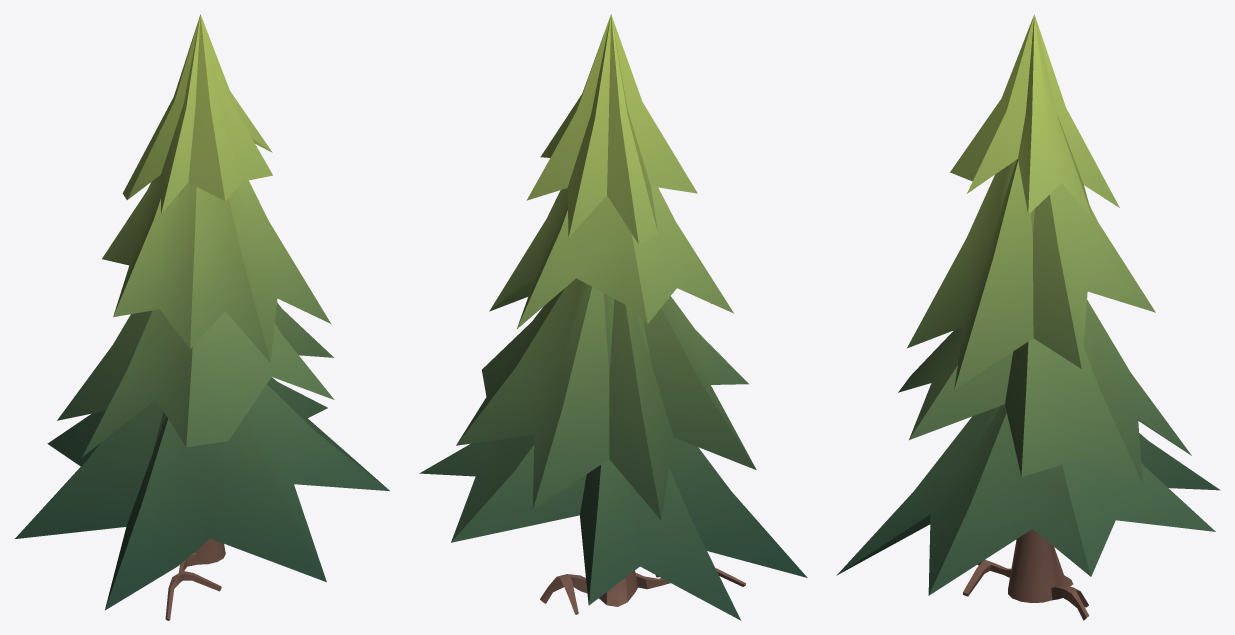
Rendered from Baum.fbx.
The picture shows the model from 3 angles, left to right: view 1: azimuth 30°, elevation 25°; view 2: azimuth 150°, elevation 25°; view 3: azimuth 270°, elevation 25°; orthographic projection. The views are drawn at different scales.
Parts seen in each view (by area): view 1: tree; view 2: tree; view 3: tree.
Part boxes in pixels (x1,y1,x2,y2): tree: [15, 14, 389, 620]; tree: [419, 14, 807, 620]; tree: [836, 14, 1220, 620].
Size of the model in its own units: 263 by 452 by 266.
